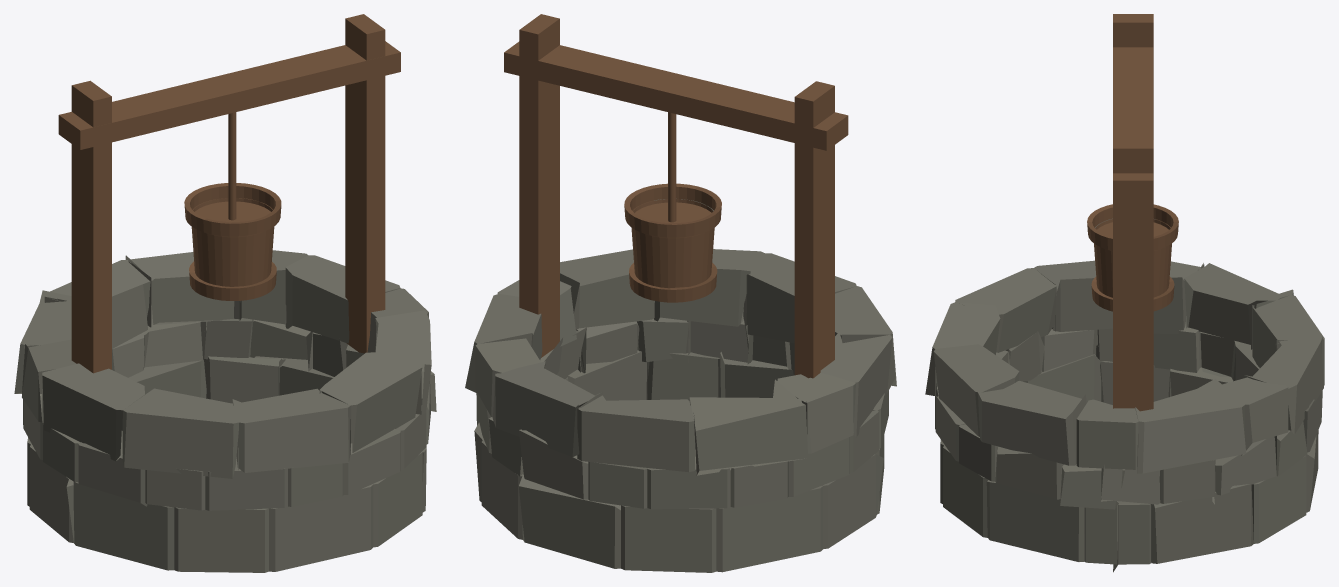
The model's file is well.fbx.
3 views of the same model, side by side, from view 1: azimuth 30°, elevation 25°; view 2: azimuth 150°, elevation 25°; view 3: azimuth 270°, elevation 25° (orthographic). The views are drawn at different scales.
Parts seen in each view (by area): view 1: Cube.038, Cube.004; view 2: Cube.038, Cube.004; view 3: Cube.038, Cube.004.
Boxes of the visible parts, <box> form: Cube.038: <box>14,250,436,572</box>; Cube.004: <box>58,14,400,373</box>; Cube.038: <box>465,249,896,572</box>; Cube.004: <box>504,14,848,378</box>; Cube.038: <box>925,260,1324,572</box>; Cube.004: <box>1087,14,1178,411</box>.
Bounding box in the file's own units: 985 × 1123 × 983.
